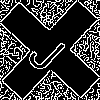J: (25, 25, 75, 76)
